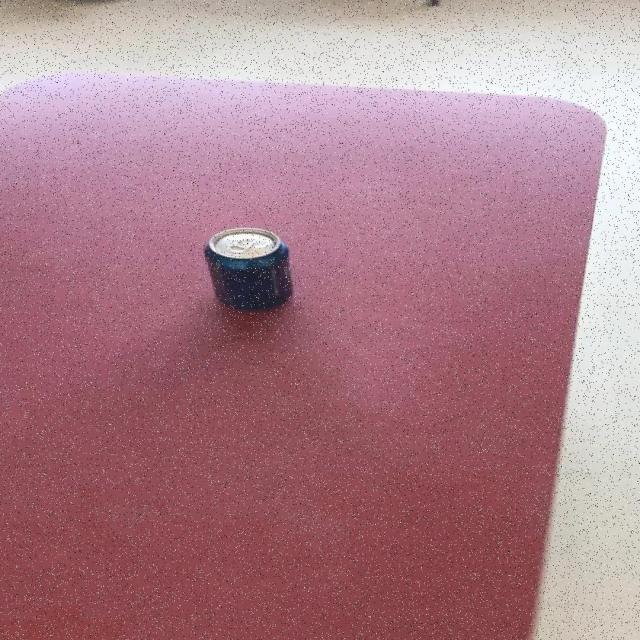Tonic: (204, 226, 296, 310)
